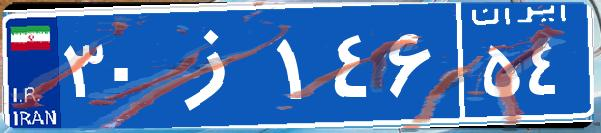0: (110, 28, 158, 105)
1: (273, 28, 330, 110)
3: (57, 26, 110, 107)
4: (330, 28, 385, 110), (525, 38, 570, 115)
5: (475, 38, 525, 113)
6: (385, 28, 445, 110)
ز: (158, 15, 273, 115)
